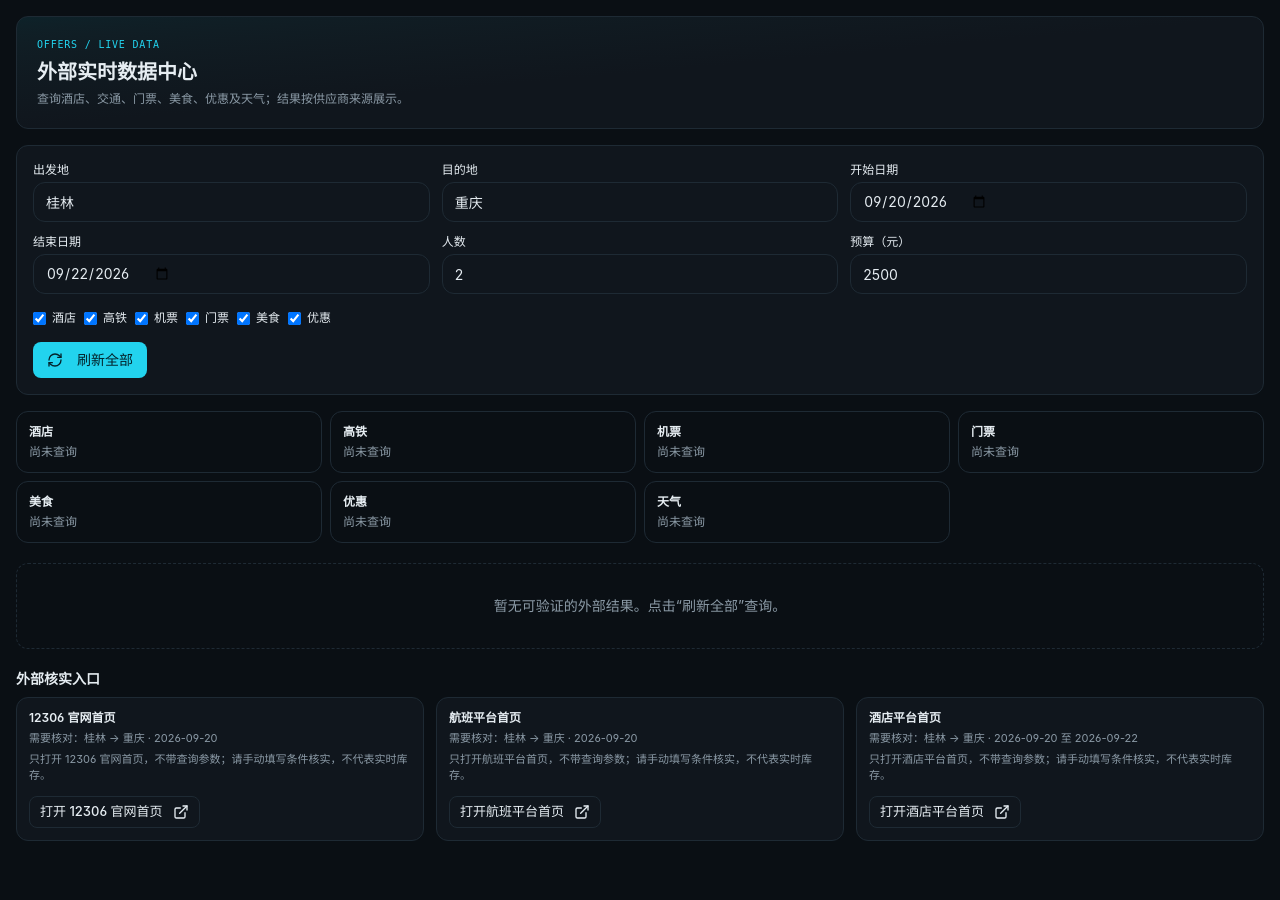
Scenario: OfferHub › surfaces a revision conflict instead of overwriting newer work
Click the button "刷新全部". click: (90, 360)
box: x1=33 y1=342 x2=147 y2=378
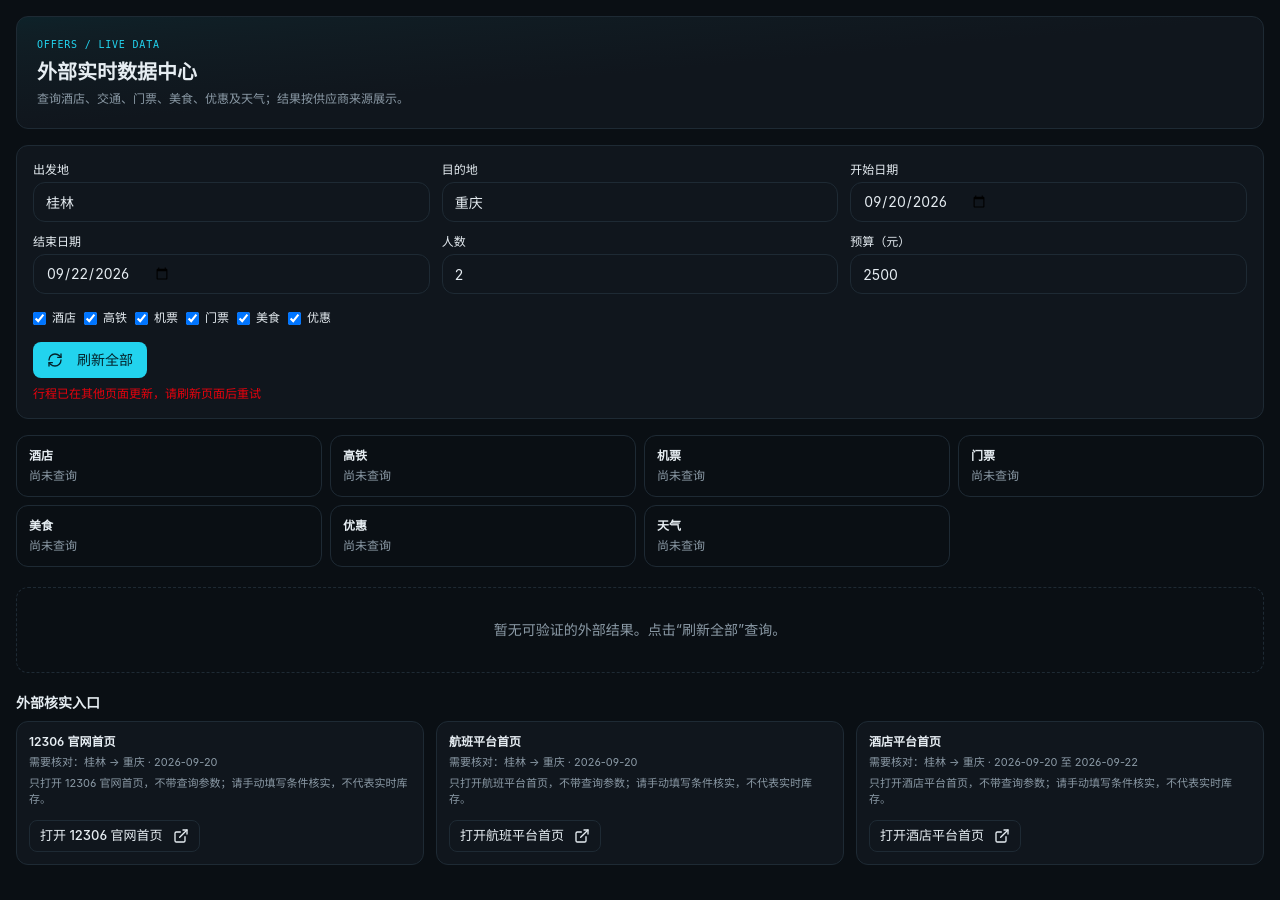
Now the message reads "行程已在其他页面更新，请刷新页面后重试", box x1=33 y1=386 x2=261 y2=401
